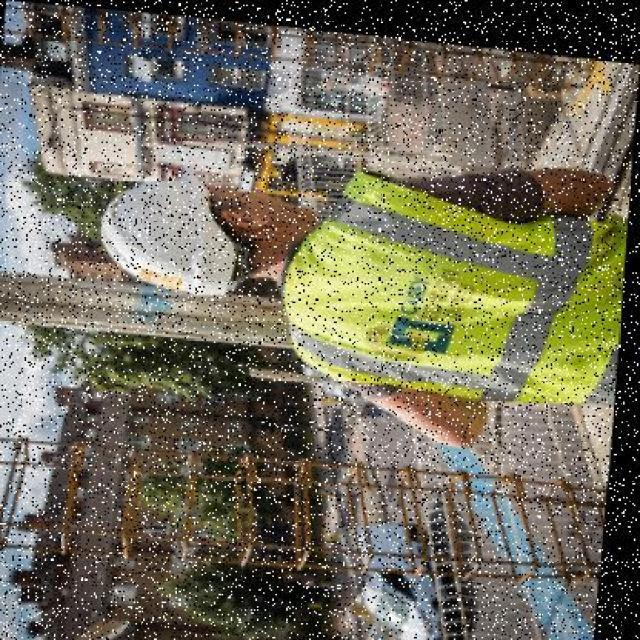helmet: (96, 148, 261, 298)
vest: (282, 141, 632, 393)
